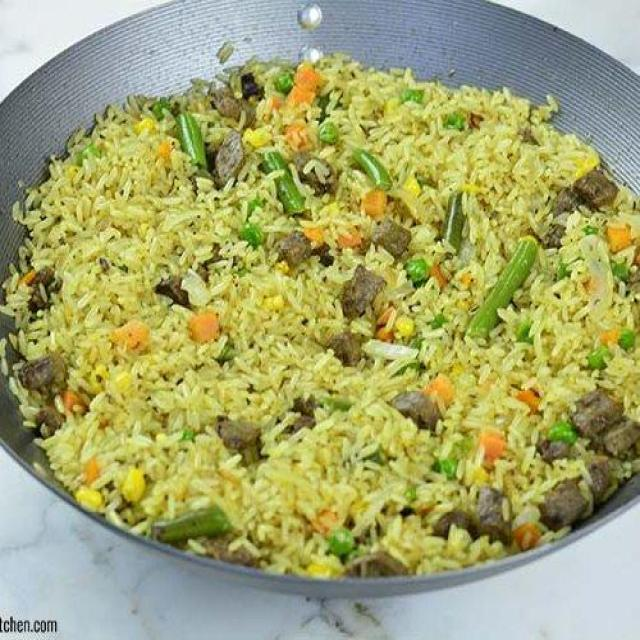Nasi Goreng: (0, 45, 639, 578)
